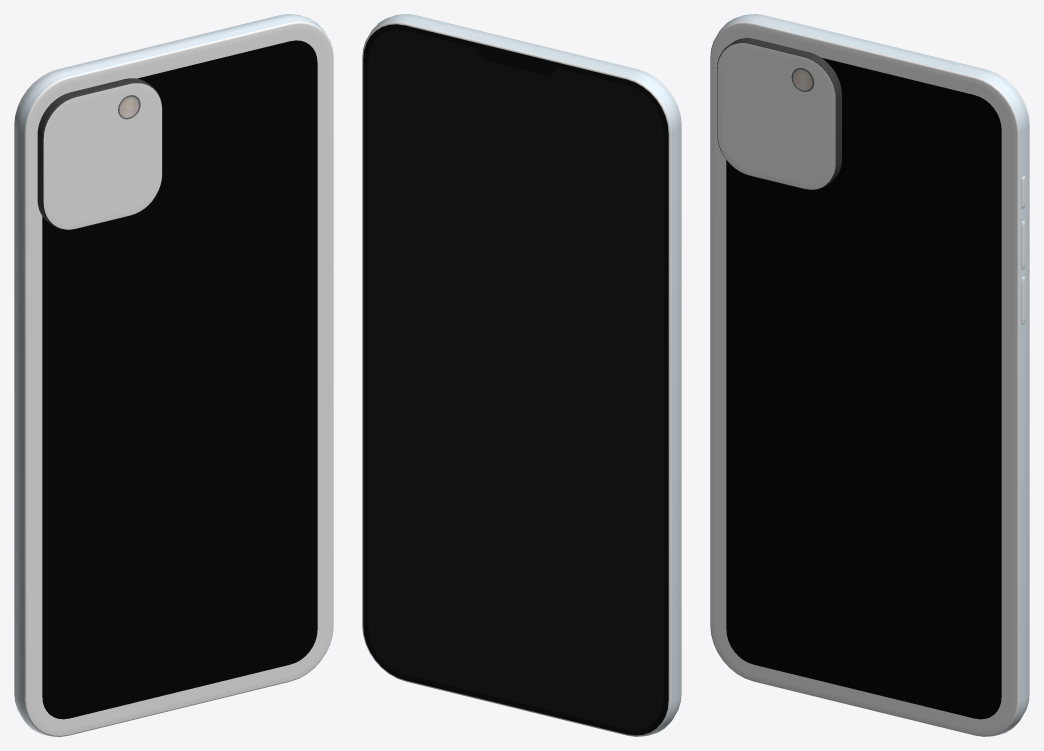
The model's file is iphone2.gltf.
The picture shows the model from 3 angles, left to right: view 1: azimuth 30°, elevation 25°; view 2: azimuth 150°, elevation 25°; view 3: azimuth 330°, elevation 25°; orthographic projection.
Parts seen in each view (by area): view 1: Plane.010, Plane.007, Plane.008; view 2: Plane.007; view 3: Plane.010, Plane.007, Plane.008.
Part boxes in pixels (bbox=[...]): Plane.010: bbox=[42, 40, 317, 719]; Plane.007: bbox=[14, 14, 333, 736]; Plane.008: bbox=[37, 78, 162, 230]; Plane.007: bbox=[362, 14, 681, 736]; Plane.010: bbox=[726, 57, 1001, 719]; Plane.007: bbox=[710, 14, 1029, 736]; Plane.008: bbox=[717, 38, 841, 189].
Size of the model in its own units: 23.35 by 47.45 by 2.24.
Materials: 8 (2 with a texture image).
